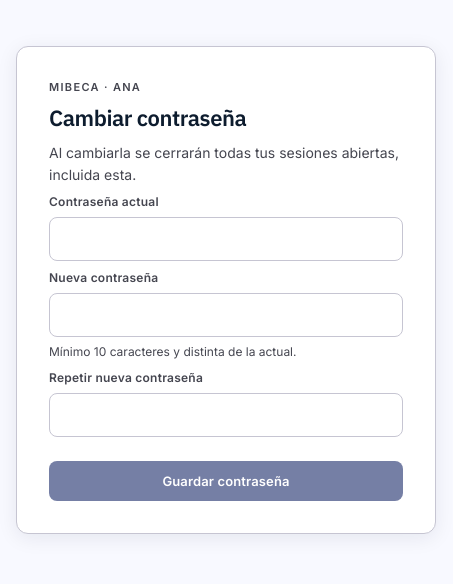
ChangePassword › muestra el error del servidor y no navega
In the password field labelled "Contraseña actual": (226, 239) [49,217,403,261], type "actual"
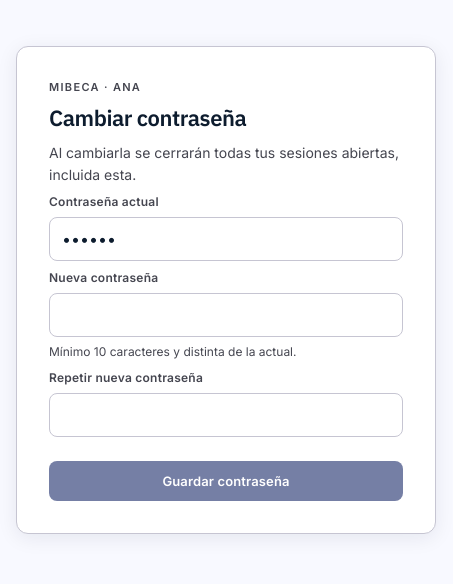
In the password field labelled "Nueva contraseña": (226, 315) [49,293,403,337], type "unaClaveLarga"
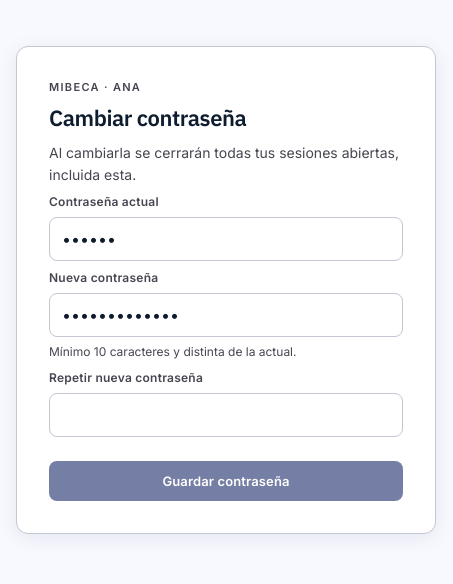
In the password field labelled "Repetir nueva contraseña": (226, 415) [49,393,403,437], type "unaClaveLarga"
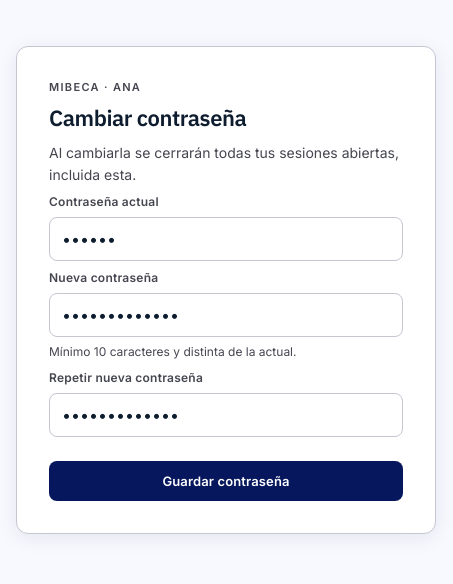
Click the button "Guardar contraseña": (226, 481) [49,461,403,501]
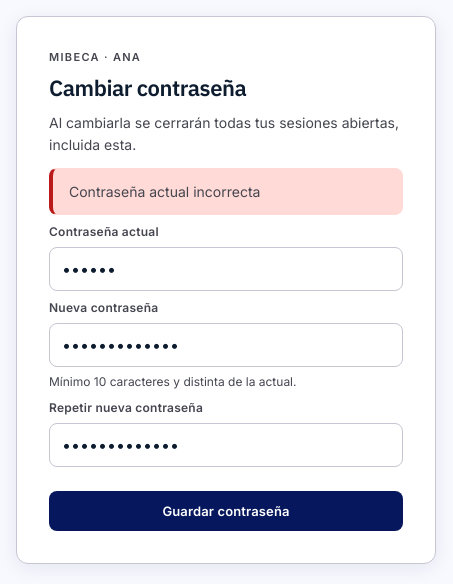
Expected: the text "Contraseña actual incorrecta" is shown, [49,168,403,215]
